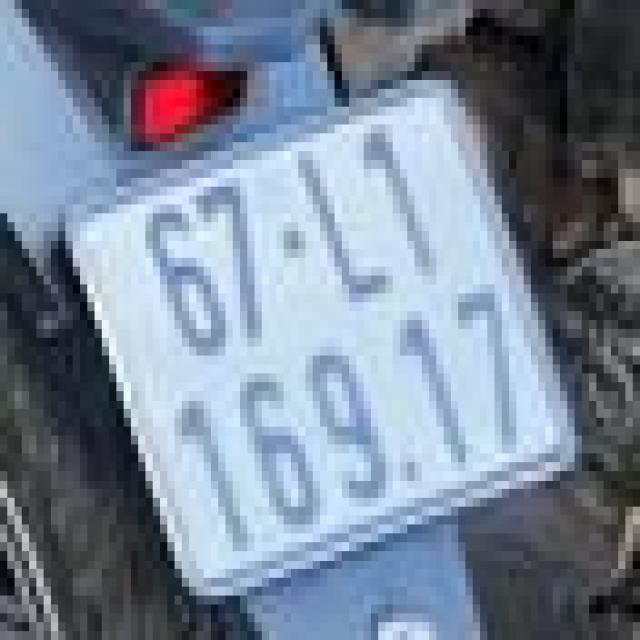1: (373, 291, 487, 483), (344, 104, 456, 289), (160, 374, 264, 569)
6: (129, 183, 237, 372), (222, 356, 332, 541)
7: (185, 163, 288, 356), (443, 276, 541, 463)
9: (290, 335, 399, 517)
L: (279, 124, 397, 320)
